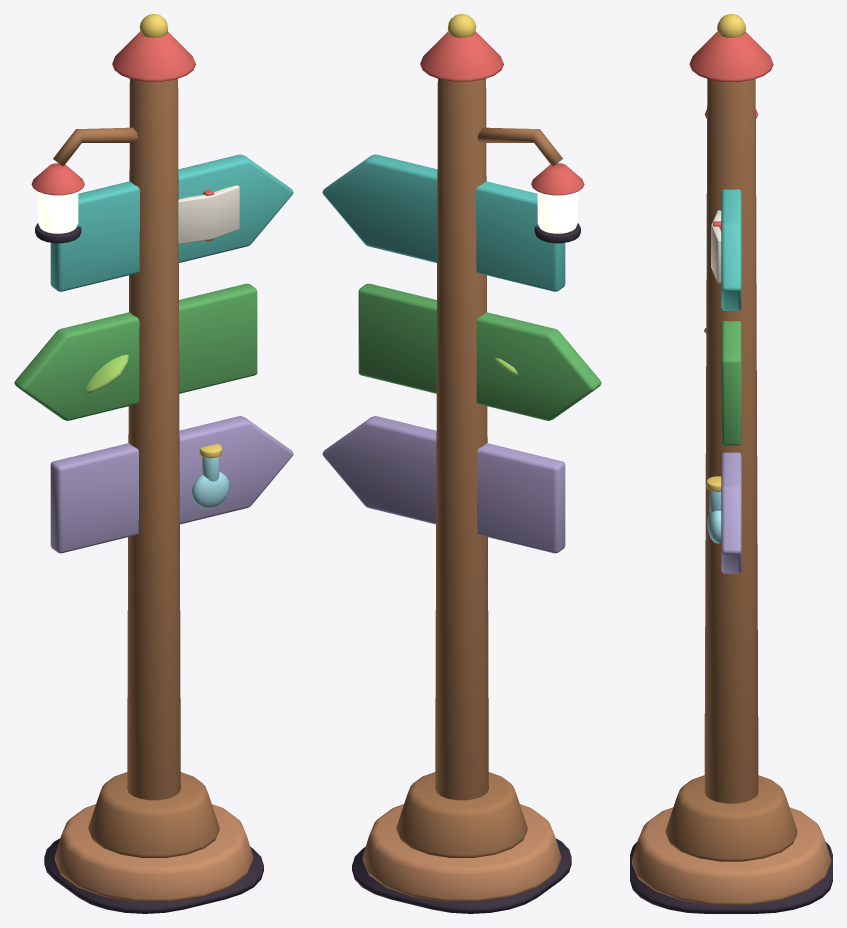
File: room-signpost.glb
3 views of the same model, side by side, from view 1: azimuth 30°, elevation 25°; view 2: azimuth 150°, elevation 25°; view 3: azimuth 270°, elevation 25° (orthographic).
Visible parts, largest first — view 1: HallwayRoomSignpost_WoodPost, HallwayRoomSignpost_LeafGreenArrow, HallwayRoomSignpost_LavenderArrow, HallwayRoomSignpost_TurquoiseArrow, HallwayRoomSignpost_TerracottaBase, HallwayRoomSignpost_CoralCapAndAccent, HallwayRoomSignpost_SlatePad, HallwayRoomSignpost_CreamBookIcon, HallwayRoomSignpost_GlowLantern, HallwayRoomSignpost_SkyBlueFlaskIcon, HallwayRoomSignpost_ButterFinial, HallwayRoomSignpost_GrassGreenIcon; view 2: HallwayRoomSignpost_WoodPost, HallwayRoomSignpost_LavenderArrow, HallwayRoomSignpost_LeafGreenArrow, HallwayRoomSignpost_TurquoiseArrow, HallwayRoomSignpost_TerracottaBase, HallwayRoomSignpost_CoralCapAndAccent, HallwayRoomSignpost_SlatePad, HallwayRoomSignpost_GlowLantern, HallwayRoomSignpost_ButterFinial; view 3: HallwayRoomSignpost_WoodPost, HallwayRoomSignpost_TerracottaBase, HallwayRoomSignpost_CoralCapAndAccent, HallwayRoomSignpost_SlatePad, HallwayRoomSignpost_LeafGreenArrow, HallwayRoomSignpost_TurquoiseArrow, HallwayRoomSignpost_LavenderArrow, HallwayRoomSignpost_ButterFinial, HallwayRoomSignpost_SkyBlueFlaskIcon, HallwayRoomSignpost_CreamBookIcon.
Part boxes in pixels (left/top/right/bottom): HallwayRoomSignpost_WoodPost: left=53, top=78, right=219, bottom=857; HallwayRoomSignpost_LeafGreenArrow: left=14, top=283, right=257, bottom=420; HallwayRoomSignpost_LavenderArrow: left=50, top=416, right=293, bottom=553; HallwayRoomSignpost_TurquoiseArrow: left=50, top=154, right=293, bottom=291; HallwayRoomSignpost_TerracottaBase: left=54, top=804, right=253, bottom=901; HallwayRoomSignpost_CoralCapAndAccent: left=31, top=31, right=214, bottom=241; HallwayRoomSignpost_SlatePad: left=35, top=223, right=263, bottom=913; HallwayRoomSignpost_CreamBookIcon: left=178, top=185, right=239, bottom=244; HallwayRoomSignpost_GlowLantern: left=38, top=191, right=78, bottom=233; HallwayRoomSignpost_SkyBlueFlaskIcon: left=191, top=456, right=229, bottom=508; HallwayRoomSignpost_ButterFinial: left=139, top=14, right=222, bottom=458; HallwayRoomSignpost_GrassGreenIcon: left=85, top=354, right=128, bottom=393; HallwayRoomSignpost_WoodPost: left=396, top=78, right=562, bottom=857; HallwayRoomSignpost_LavenderArrow: left=322, top=416, right=565, bottom=553; HallwayRoomSignpost_LeafGreenArrow: left=358, top=283, right=601, bottom=420; HallwayRoomSignpost_TurquoiseArrow: left=322, top=154, right=565, bottom=291; HallwayRoomSignpost_TerracottaBase: left=362, top=804, right=561, bottom=901; HallwayRoomSignpost_CoralCapAndAccent: left=420, top=31, right=584, bottom=195; HallwayRoomSignpost_SlatePad: left=352, top=223, right=580, bottom=913; HallwayRoomSignpost_GlowLantern: left=537, top=191, right=577, bottom=233; HallwayRoomSignpost_ButterFinial: left=447, top=14, right=476, bottom=37; HallwayRoomSignpost_WoodPost: left=665, top=79, right=797, bottom=861; HallwayRoomSignpost_TerracottaBase: left=631, top=807, right=831, bottom=905; HallwayRoomSignpost_CoralCapAndAccent: left=689, top=31, right=773, bottom=230; HallwayRoomSignpost_SlatePad: left=630, top=841, right=832, bottom=913; HallwayRoomSignpost_LeafGreenArrow: left=721, top=321, right=741, bottom=445; HallwayRoomSignpost_TurquoiseArrow: left=721, top=189, right=741, bottom=310; HallwayRoomSignpost_LavenderArrow: left=721, top=452, right=741, bottom=573; HallwayRoomSignpost_ButterFinial: left=706, top=14, right=745, bottom=491; HallwayRoomSignpost_SkyBlueFlaskIcon: left=707, top=490, right=721, bottom=543; HallwayRoomSignpost_CreamBookIcon: left=711, top=210, right=721, bottom=283.
Bounding box in the file's own units: 0.6531 × 1.95 × 0.42.
